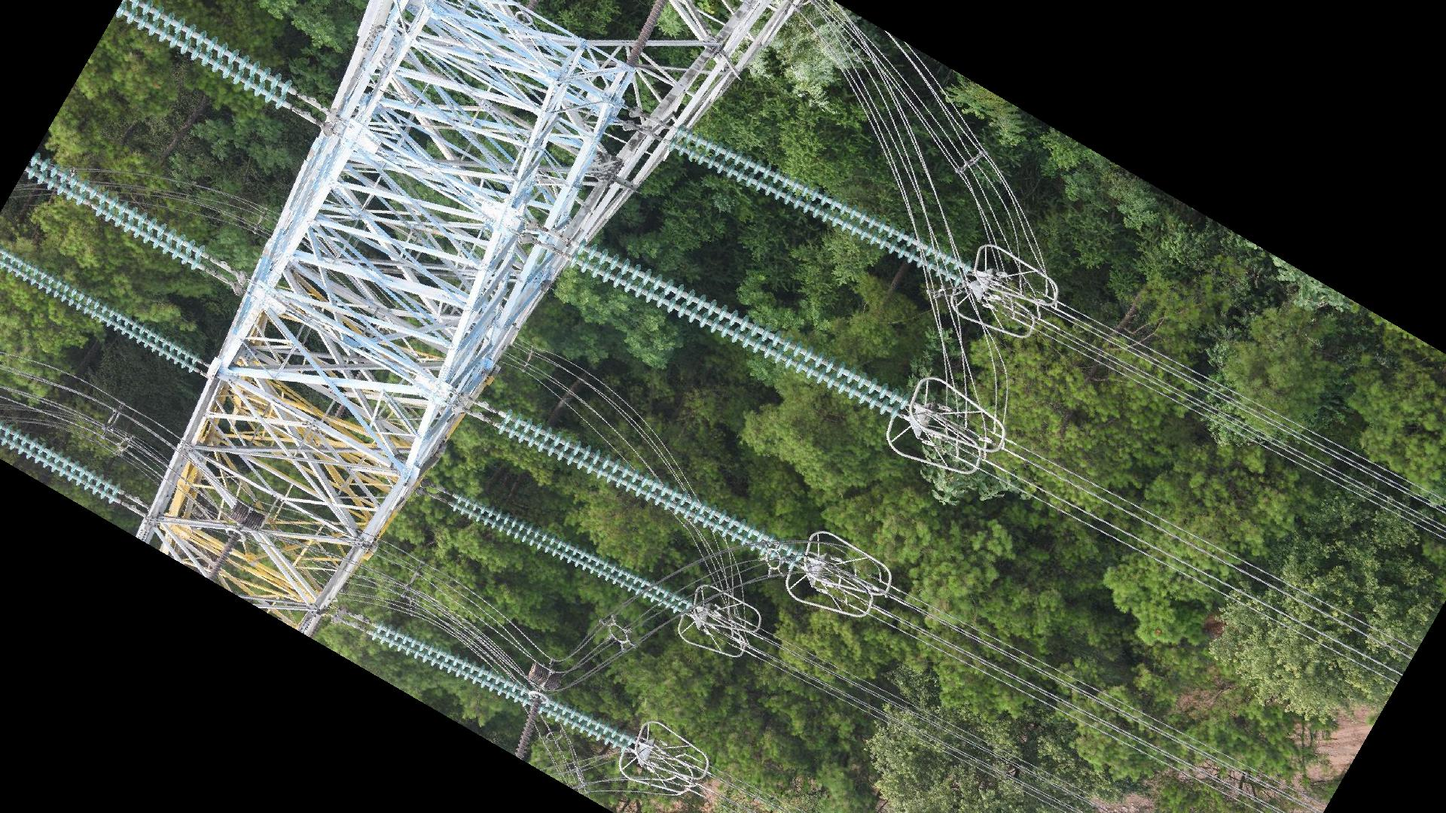insulator: (567, 238, 914, 423), (666, 123, 977, 288), (496, 407, 807, 570), (367, 617, 641, 753), (450, 492, 697, 615), (1, 248, 203, 376), (22, 150, 208, 273), (114, 1, 295, 114), (1, 420, 124, 507), (624, 1, 670, 69), (512, 693, 546, 762), (206, 531, 243, 581)
insulator_stringdrop: (73, 190, 106, 218)
